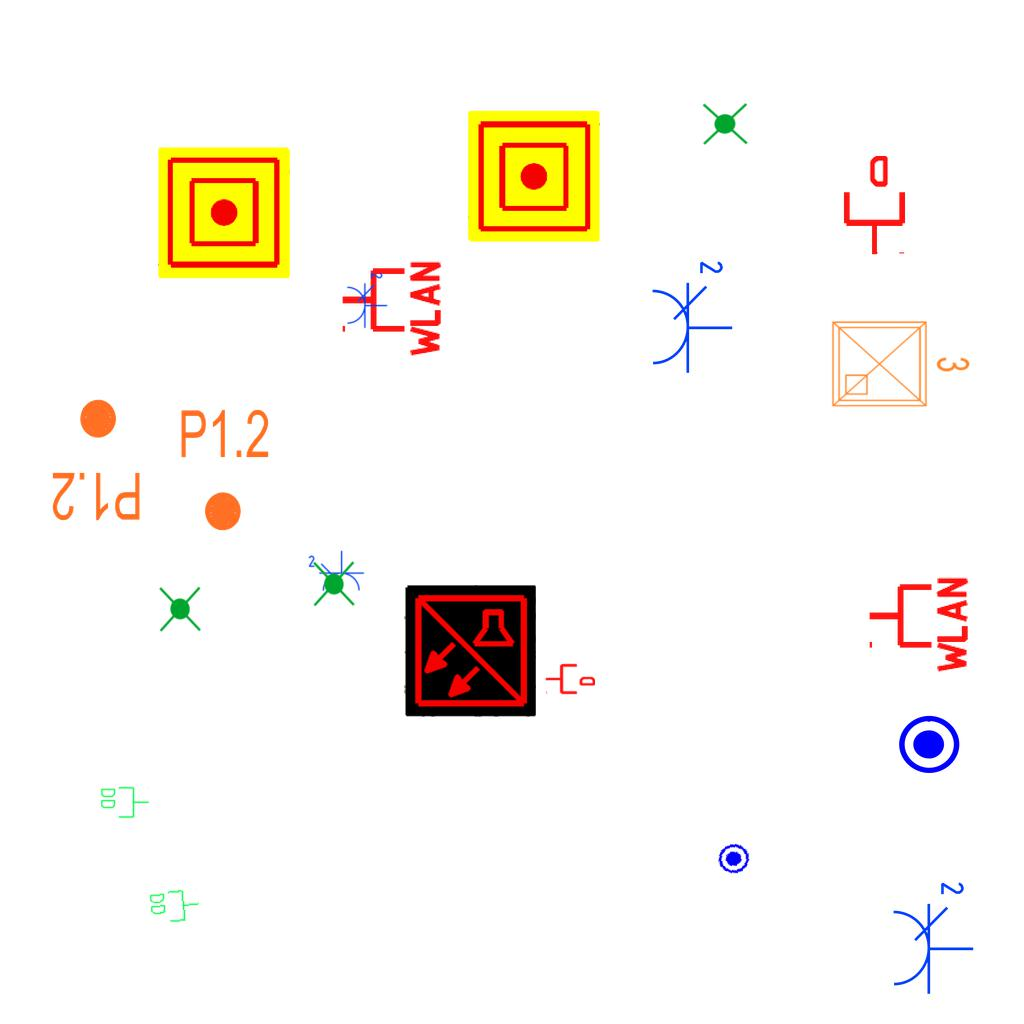Datenanschluss_einfach: (840, 156, 909, 256), (545, 662, 595, 696)
Datenanschluss_zweifach: (147, 886, 202, 926), (99, 785, 150, 819)
Downlight_LED_Einbauleuchten_Flur: (50, 396, 143, 524), (178, 406, 271, 534)
Einbaudownlights_LED_Konferenzraeume: (825, 310, 975, 414)
NAM-Nichtautomatischer_Melder: (468, 110, 600, 242), (158, 147, 290, 279)
Notlichtbaustein_in_Allgemeinbeleuchtug_engebaut_Einbau_(1UG_und_2UG_Aufbauvaria: (700, 99, 750, 150), (154, 584, 205, 634), (309, 559, 360, 609)
OKW_Multisensormelder_(Kombination_optischer_Rauch-Kahlenmonoxid_Waerme-Melder): (404, 585, 536, 717)
Schukosteckdose_mehrfach: (646, 254, 734, 375), (887, 875, 975, 996), (305, 550, 365, 594), (344, 269, 388, 329)
Taster: (896, 709, 962, 775), (714, 838, 753, 877)
WLAN: (338, 257, 443, 361), (865, 573, 970, 677)
